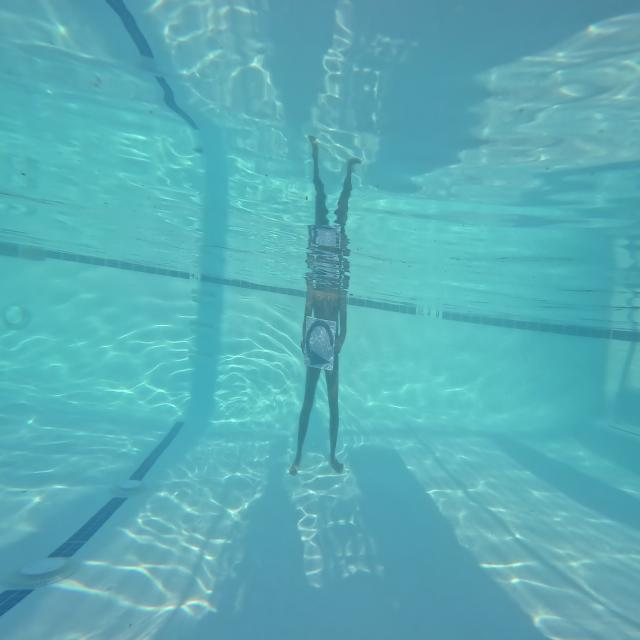blue_side: (303, 316, 337, 369)
